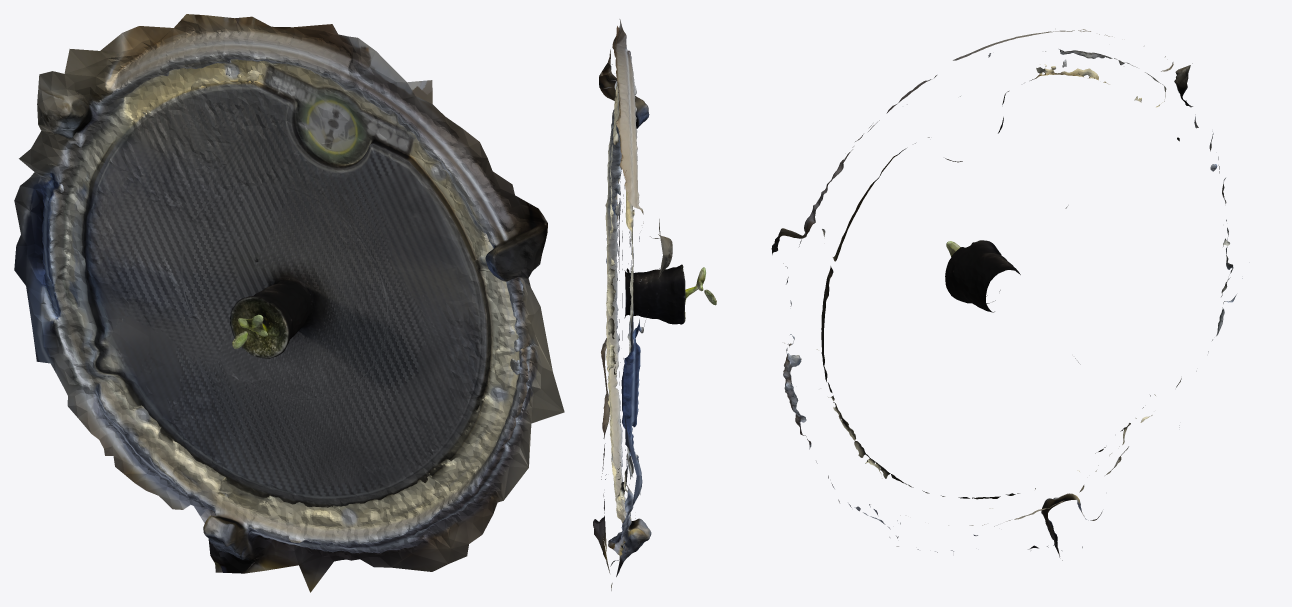
3 renders of one model, left to right at view 1: azimuth 30°, elevation 25°; view 2: azimuth 150°, elevation 25°; view 3: azimuth 270°, elevation 25°, orthographic. The views are drawn at different scales.
Size of the model in its own units: 9.14 by 17.51 by 14.82.
1 material, 1 textured.
